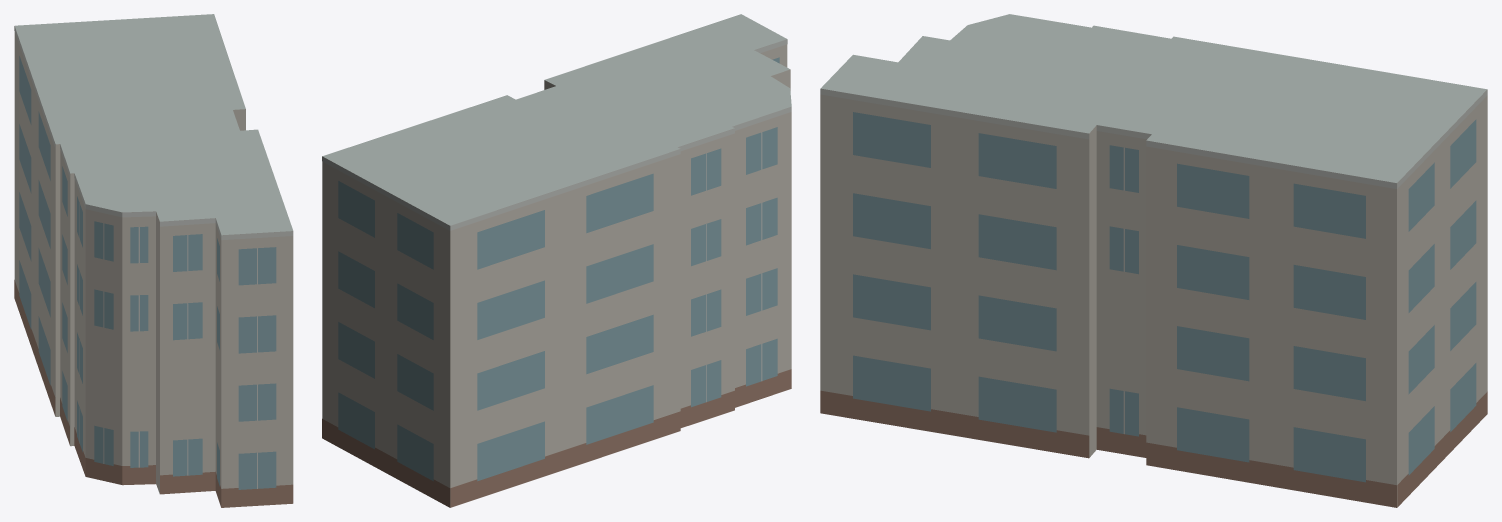
The model's file is survey-upis-32803562.glb.
The picture shows the model from 3 angles, left to right: view 1: azimuth 30°, elevation 25°; view 2: azimuth 150°, elevation 25°; view 3: azimuth 270°, elevation 25°; orthographic projection. The views are drawn at different scales.
Visible parts, largest first — view 1: survey-upis-32803562.tmp; view 2: survey-upis-32803562.tmp; view 3: survey-upis-32803562.tmp.
Boxes of the visible parts, bbox=[...] form: survey-upis-32803562.tmp: bbox=[14, 14, 293, 507]; survey-upis-32803562.tmp: bbox=[322, 14, 791, 507]; survey-upis-32803562.tmp: bbox=[820, 14, 1487, 507].
Bounding box in the file's own units: 14.87 × 13.3 × 24.77.
